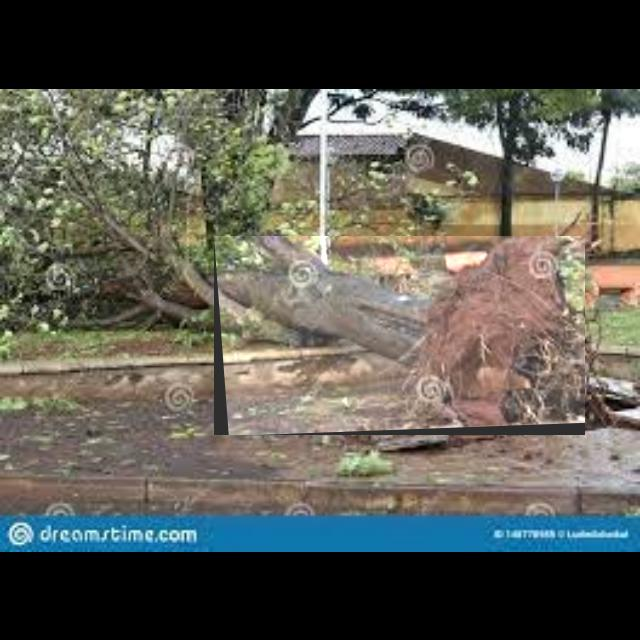Fallen Tree: (214, 236, 586, 436)
